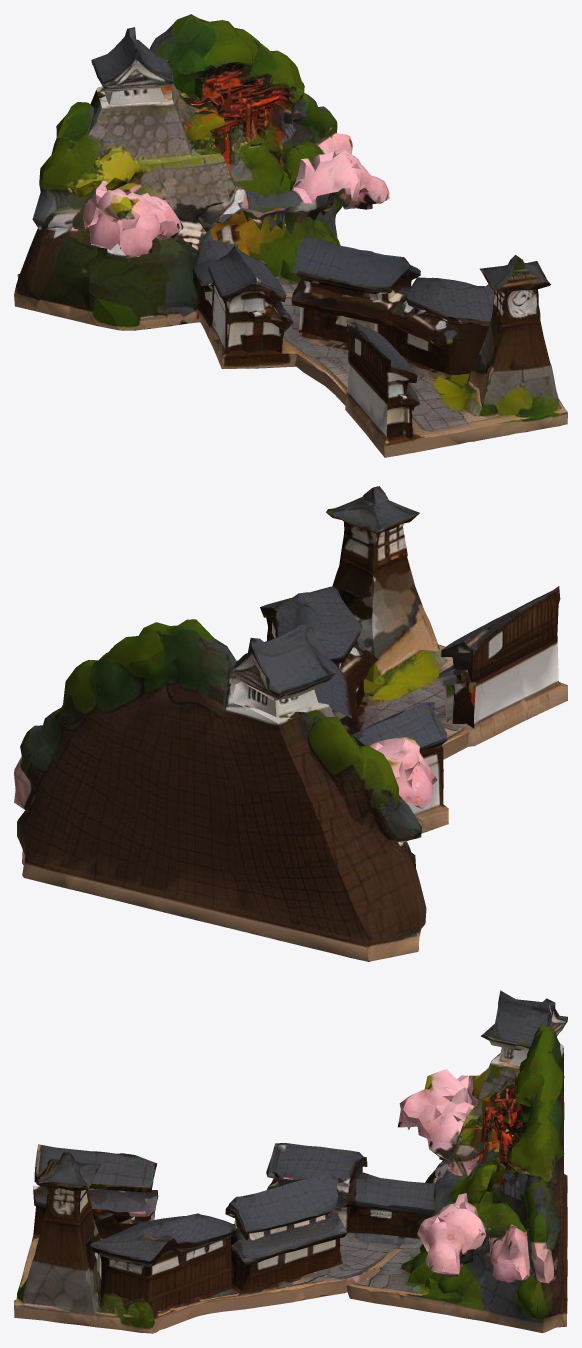
Rendered from izushi-castle-town.glb.
3 views of the same model, one above another, from view 1: azimuth 30°, elevation 25°; view 2: azimuth 150°, elevation 25°; view 3: azimuth 270°, elevation 25° (orthographic). The views are drawn at different scales.
Visible parts, largest first — view 1: logan-textured.obj; view 2: logan-textured.obj; view 3: logan-textured.obj.
Boxes of the visible parts, x1,y1,x2,y2 form: logan-textured.obj: (14, 14, 567, 457); logan-textured.obj: (14, 486, 567, 961); logan-textured.obj: (14, 990, 567, 1333).
Bounding box in the file's own units: 0.6986 × 0.4749 × 1.
Materials: 1 (1 with a texture image).
